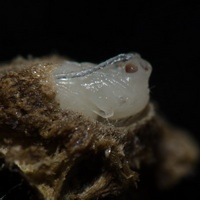insect: (0, 53, 199, 199)
